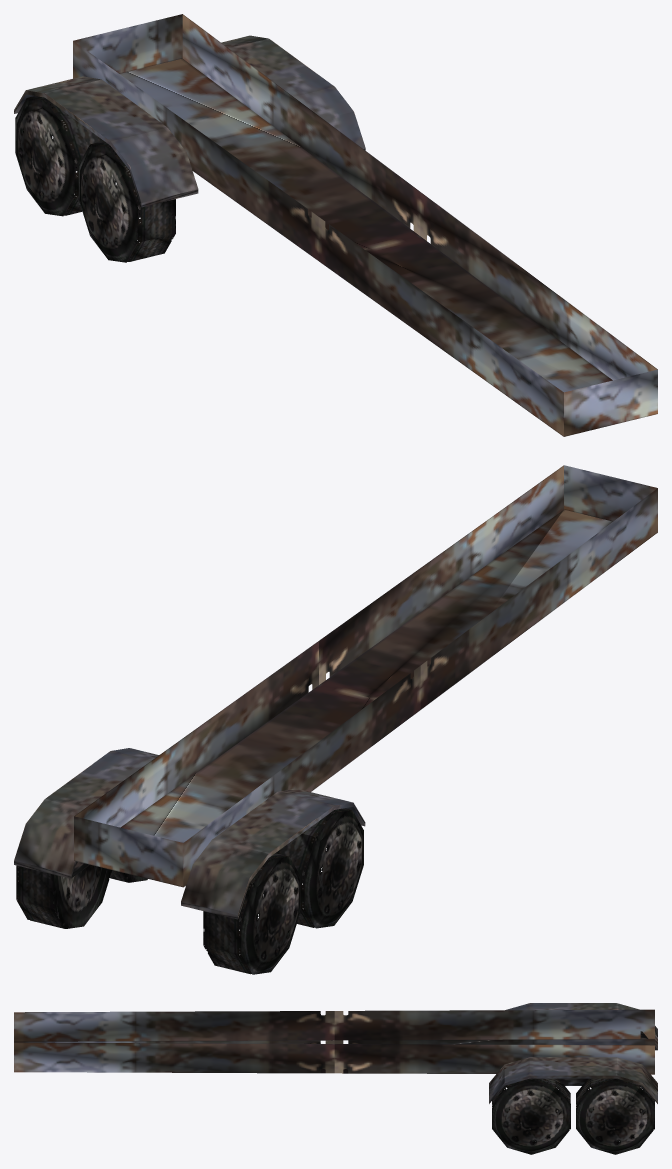
Rendered from truck_trailer.fbx.
3 views of the same model, one above another, from view 1: azimuth 30°, elevation 25°; view 2: azimuth 150°, elevation 25°; view 3: azimuth 270°, elevation 25° (orthographic). The views are drawn at different scales.
Parts seen in each view (by area): view 1: Mesh_0215.rip; view 2: Mesh_0215.rip; view 3: Mesh_0215.rip.
Part boxes in pixels (x1,y1,x2,y2): Mesh_0215.rip: [14, 14, 657, 436]; Mesh_0215.rip: [14, 465, 657, 974]; Mesh_0215.rip: [14, 1003, 657, 1154].
Bounding box in the file's own units: 686 × 382 × 2453.
